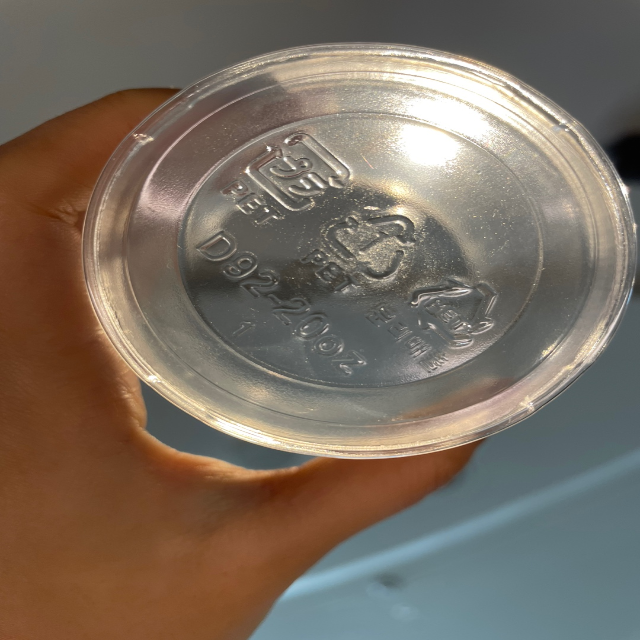pet: (218, 126, 352, 229), (366, 277, 499, 369), (303, 203, 421, 297)
